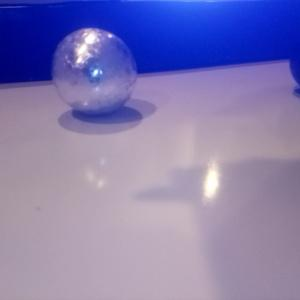alive_ball: (53, 26, 138, 116)
dead_ball: (289, 33, 300, 85)
